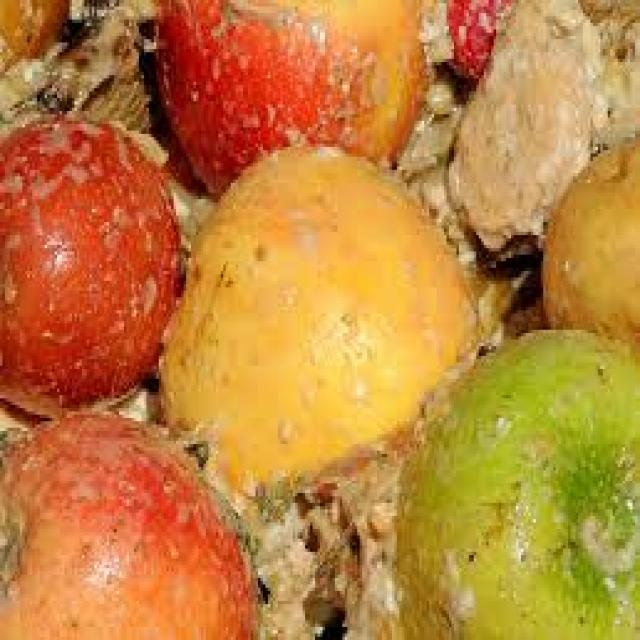Organik: (397, 330, 640, 640), (440, 1, 640, 330), (3, 411, 262, 640), (1, 107, 187, 411), (164, 0, 424, 143)
